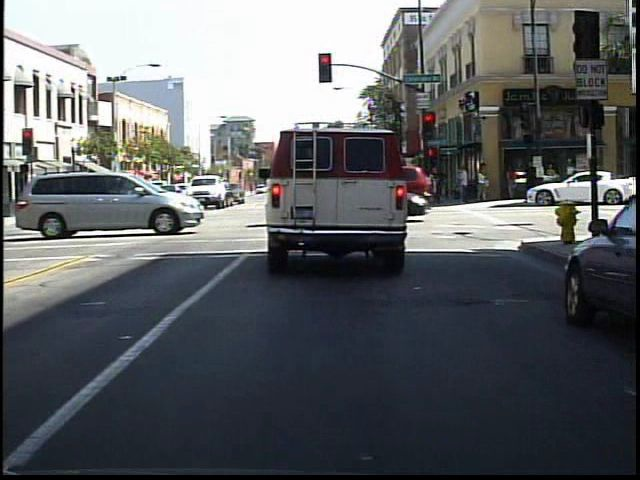person: (521, 156, 540, 198), (505, 160, 519, 200)
